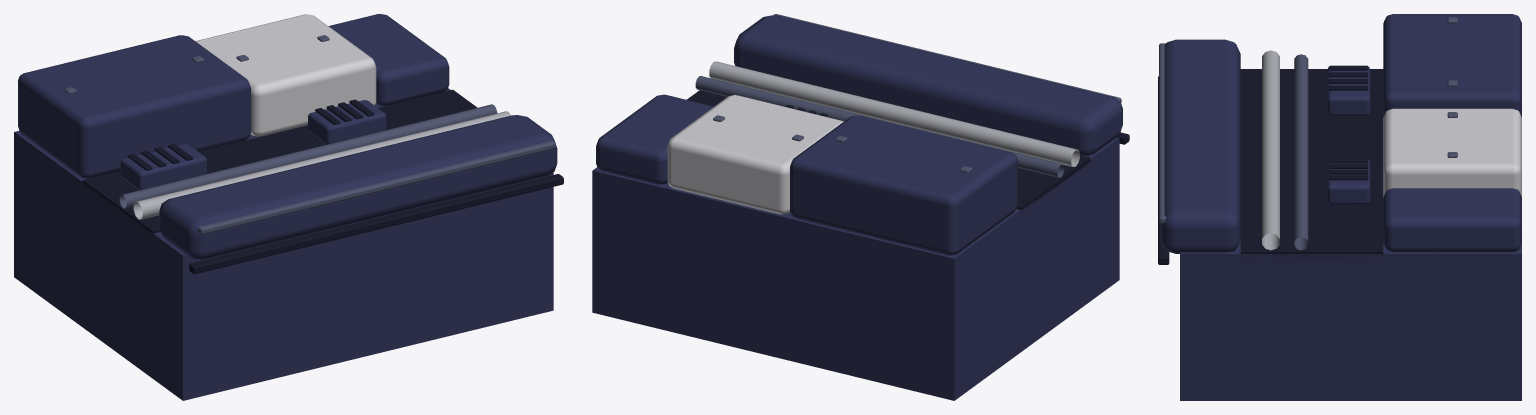
File: int.rimliner.v0.w1.glb
The picture shows the model from 3 angles, left to right: view 1: azimuth 30°, elevation 25°; view 2: azimuth 150°, elevation 25°; view 3: azimuth 270°, elevation 25°; orthographic projection. The views are drawn at different scales.
Parts seen in each view (by area): view 1: int.rimliner.v0.w1; view 2: int.rimliner.v0.w1; view 3: int.rimliner.v0.w1.
Part boxes in pixels (box(x1,y1,x2,y2)): int.rimliner.v0.w1: box(14, 14, 563, 400); int.rimliner.v0.w1: box(592, 14, 1129, 400); int.rimliner.v0.w1: box(1158, 14, 1521, 400).
Bounding box in the file's own units: 1 × 0.536 × 0.841.
